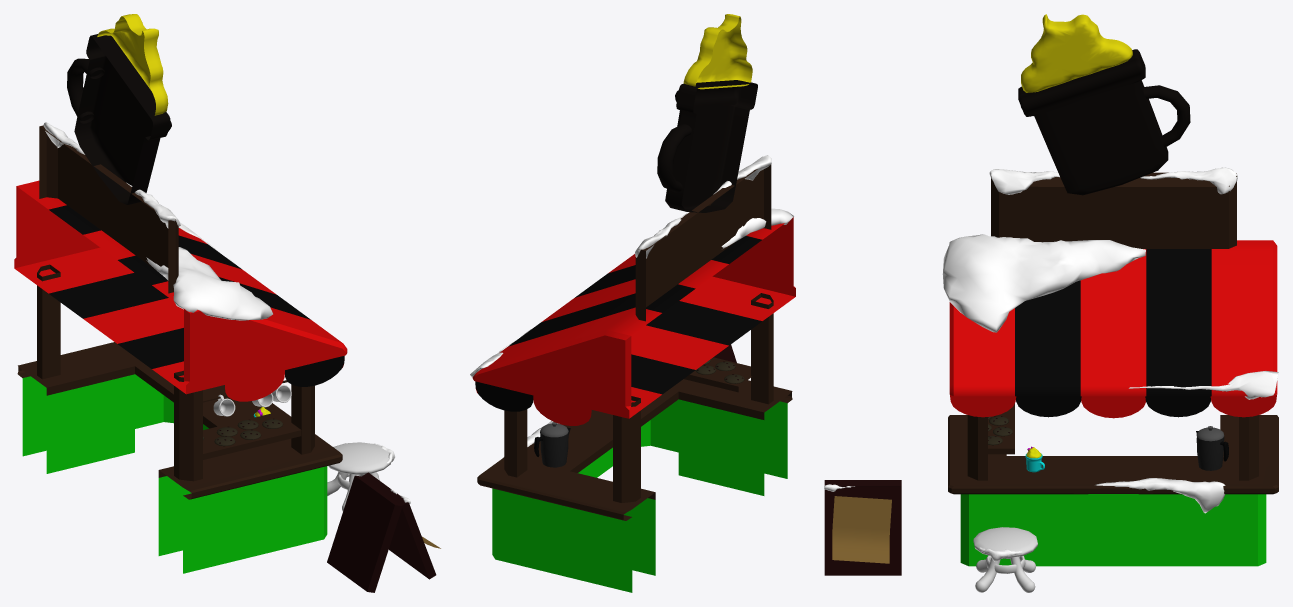
File: Kiosk.fbx
The picture shows the model from 3 angles, left to right: view 1: azimuth 30°, elevation 25°; view 2: azimuth 150°, elevation 25°; view 3: azimuth 270°, elevation 25°; orthographic projection. The views are drawn at different scales.
Visible parts, largest first — view 1: Kiosk, Sign, Snow, Chair; view 2: Kiosk, Snow, Blender; view 3: Kiosk, Snow, Sign, Chair, Blender.
Boxes of the visible parts, left/top/right/bottom form: Kiosk: left=14, top=14, right=347, bottom=573; Sign: left=327, top=472, right=440, bottom=592; Snow: left=43, top=122, right=410, bottom=503; Chair: left=327, top=442, right=390, bottom=511; Kiosk: left=472, top=14, right=795, bottom=592; Snow: left=470, top=155, right=793, bottom=457; Blender: left=534, top=422, right=570, bottom=467; Kiosk: left=948, top=14, right=1278, bottom=566; Snow: left=824, top=167, right=1278, bottom=561; Sign: left=824, top=480, right=901, bottom=575; Chair: left=973, top=527, right=1037, bottom=592; Blender: left=1196, top=426, right=1228, bottom=470.
Bounding box in the file's own units: 11.33 × 23.52 × 19.97.
